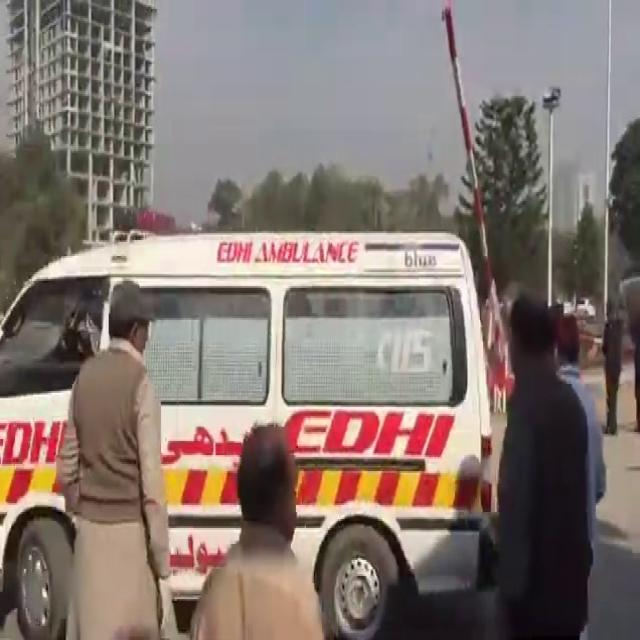ambulance: (4, 242, 497, 604)
